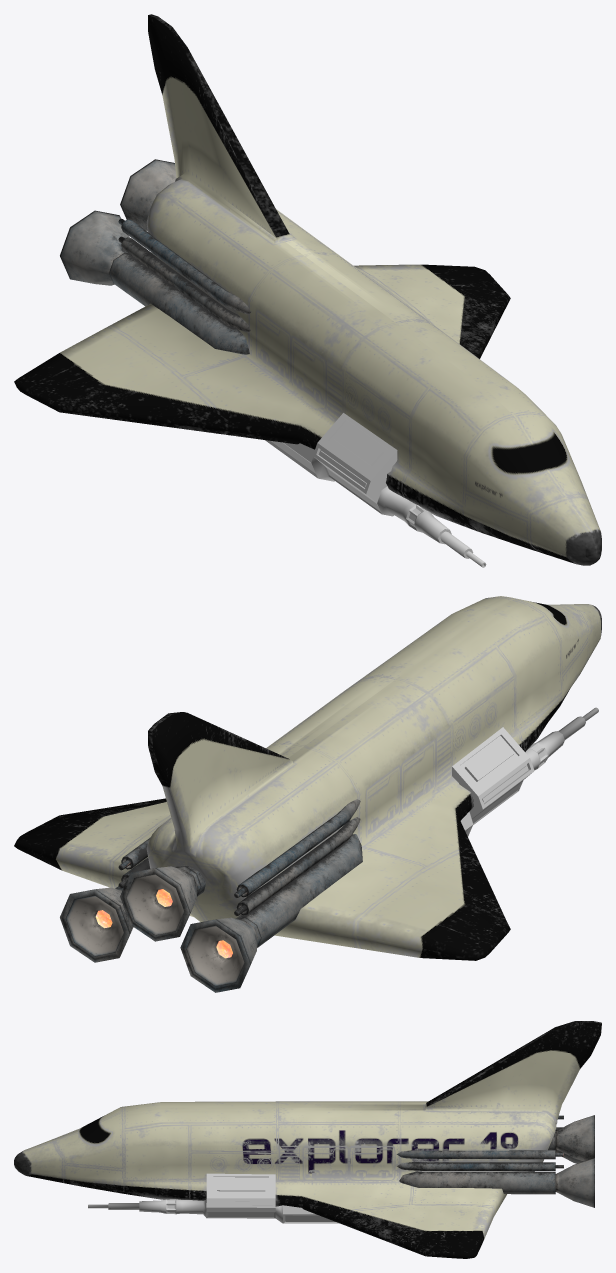
The picture shows the model from 3 angles, top to bottom: view 1: azimuth 30°, elevation 25°; view 2: azimuth 150°, elevation 25°; view 3: azimuth 270°, elevation 25°; orthographic projection. The views are drawn at different scales.
Parts seen in each view (by area): view 1: shuttle, antrieb, guns; view 2: shuttle, antrieb, guns; view 3: shuttle, antrieb, guns.
Boxes of the visible parts, x1,y1,x2,y2 form: shuttle: [14, 14, 601, 565]; antrieb: [60, 159, 250, 354]; guns: [265, 413, 486, 567]; shuttle: [14, 596, 601, 960]; antrieb: [60, 799, 362, 992]; guns: [452, 707, 598, 836]; shuttle: [14, 1021, 601, 1258]; antrieb: [397, 1115, 594, 1207]; guns: [88, 1173, 339, 1223].
Size of the model in its own units: 6.23 by 3.52 by 10.26.
